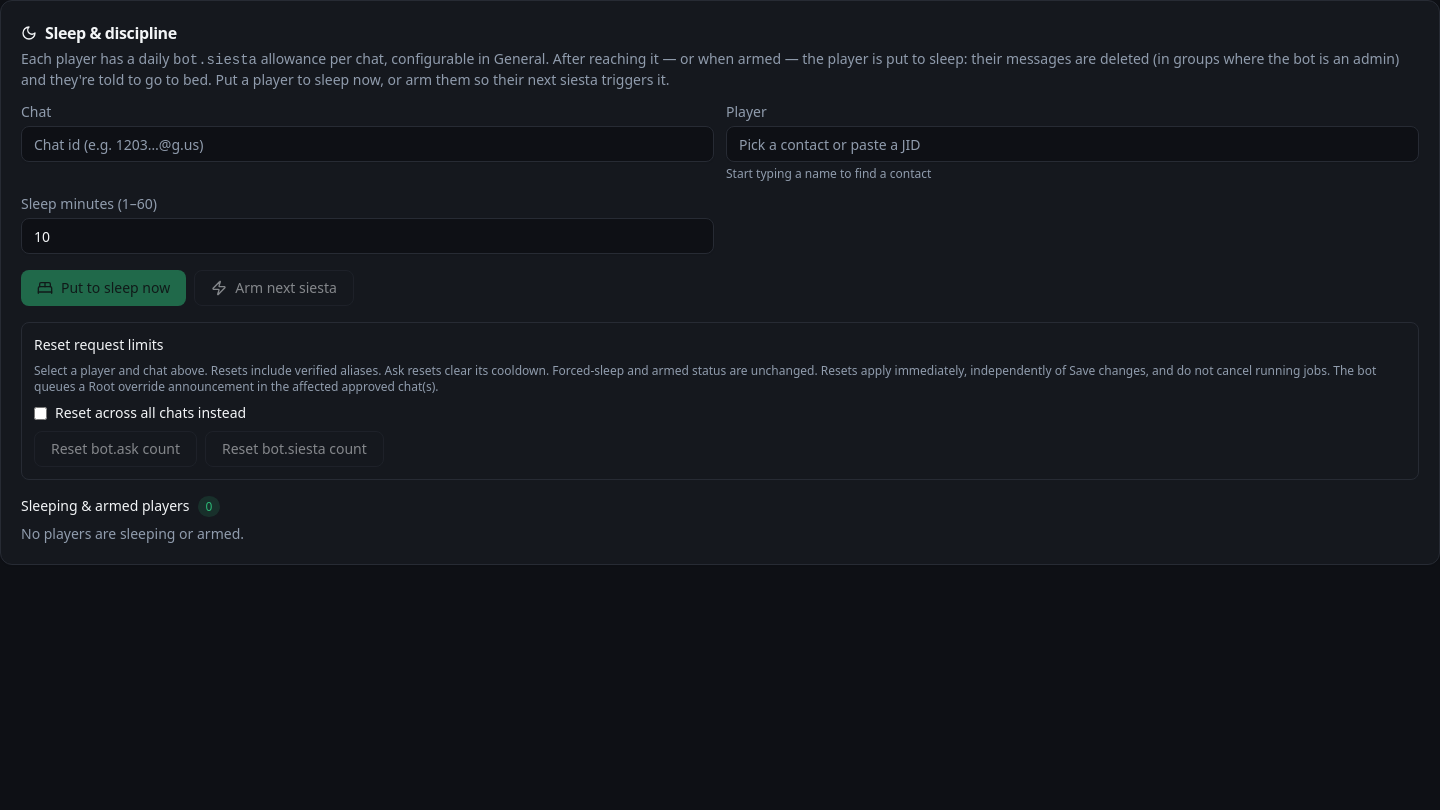
discipline query and form states › resolves device phone addresses but never treats opaque LID digits as a phone number
Expected: the text "No players are sleeping or armed." is shown, [21,524,244,543]
Type "34600000001:2@s.whatsapp.net" into the field labelled "Player" at (1072, 144), box [726,126,1419,162]
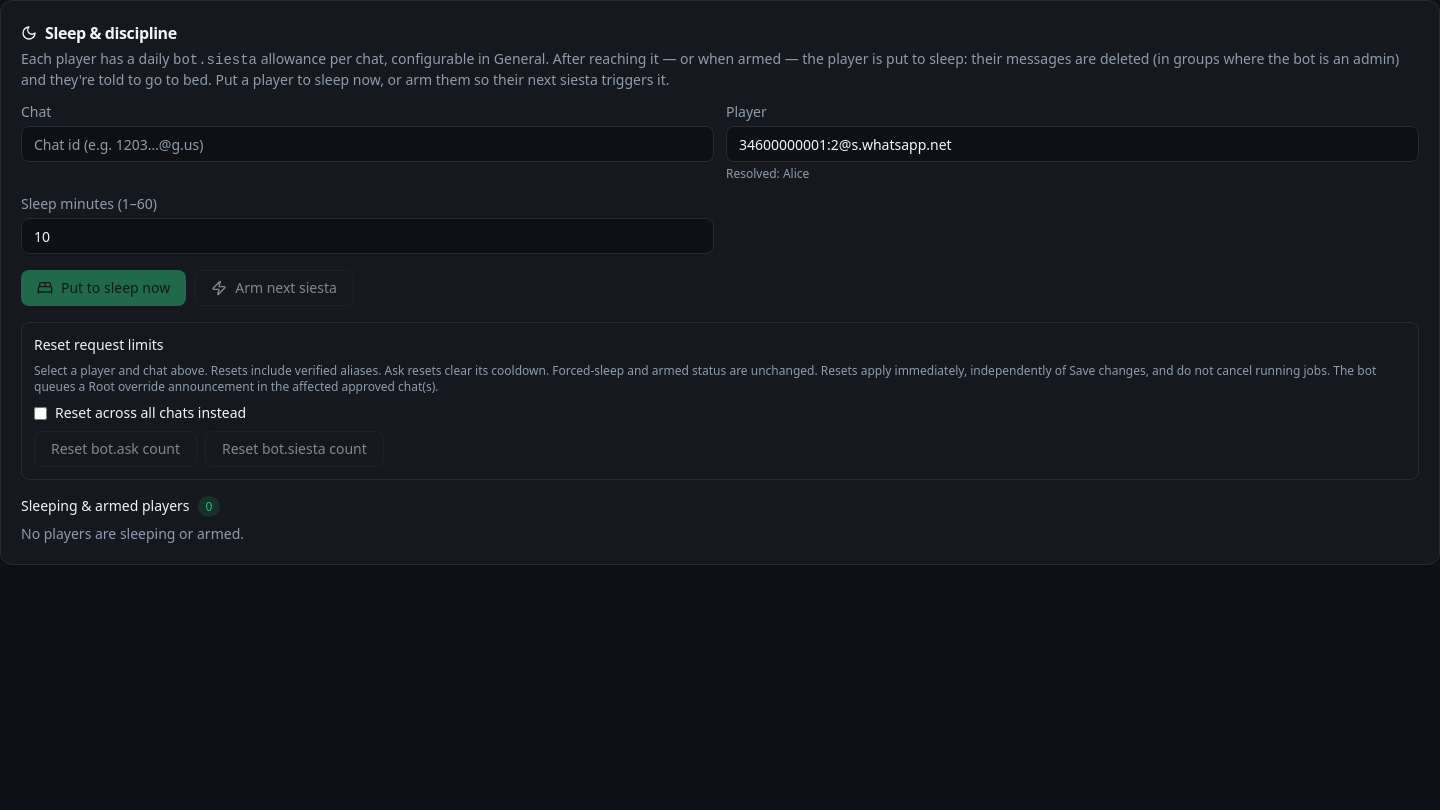
Expected: the text "Resolved: Alice" is shown, [726,165,809,182]
Replace the text in the field labelled "Player" with "34600000001@lid" at (1072, 144), box [726,126,1419,162]
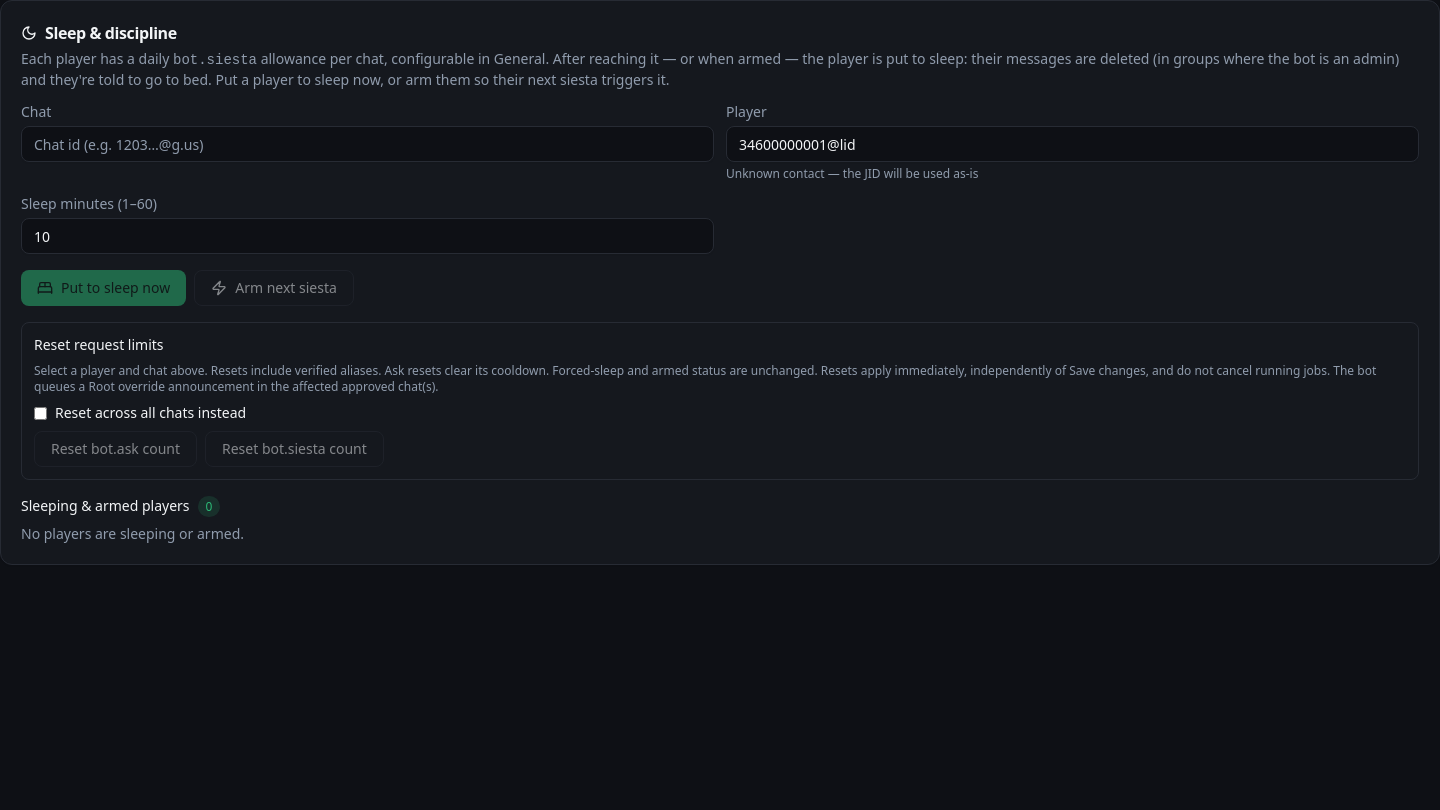
Expected: the text "Unknown contact — the JID will be used as-is" is shown, [726,165,978,182]
Expected: the text "Resolved: Alice" is gone
